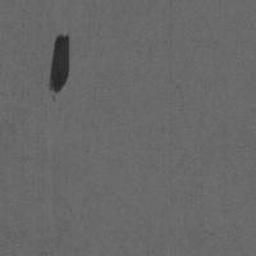Inclusion: (46, 33, 72, 101)
